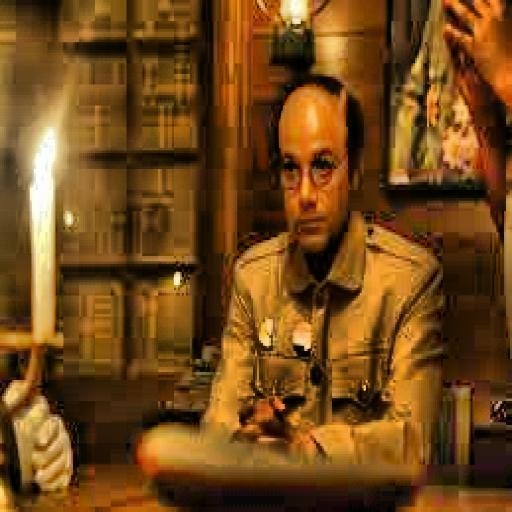fire: (26, 124, 69, 190)
